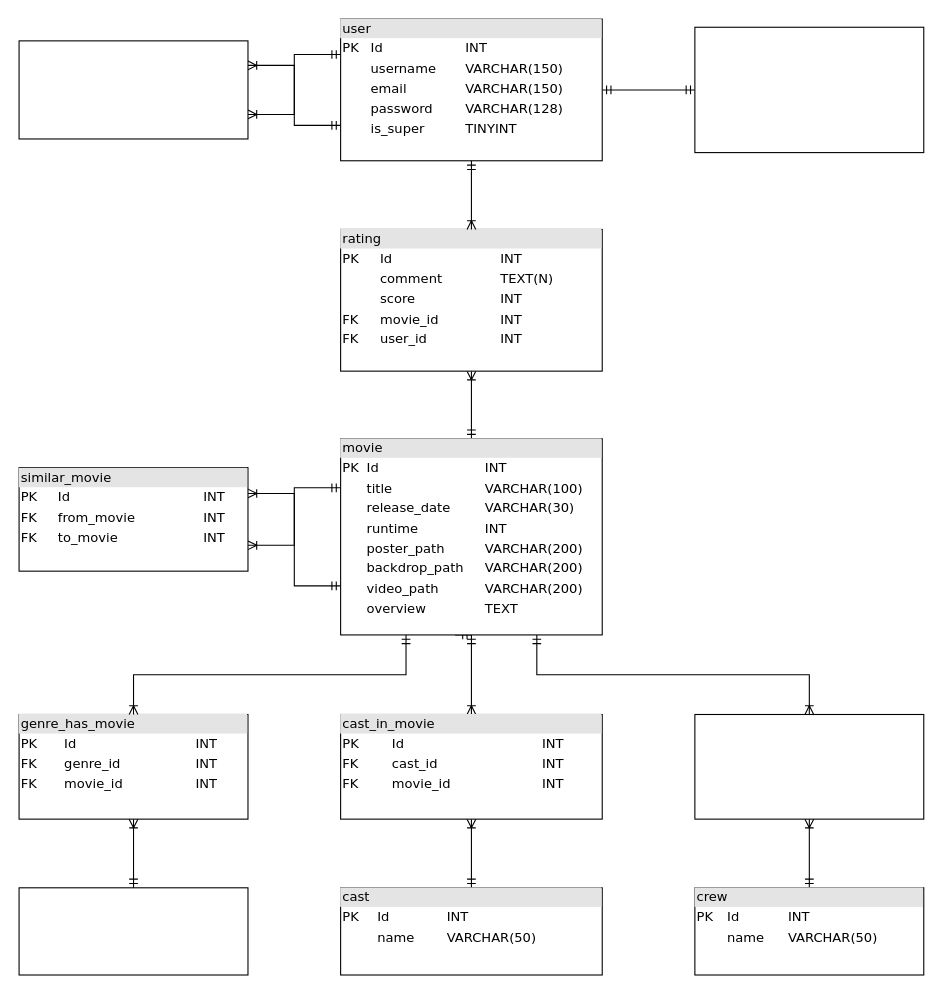
Some shapes in this 943 by 994 pixel diagram are drawn without their labels. The shapes that lost their labels are listed below. From the top down, each one's centre as x and y in pixels, then its label:
At [133,89]: "follow_user PK Id INT FK from_user INT FK to_user INT".
At [809,89]: "profile PK Id INT nickname VARCHAR(50) introduction TEXT FK user_id INT".
At [809,766]: "crew_in_movie PK Id INT FK crew_id INT FK movie_id INT".
At [133,931]: "genre PK Id INT type VARCHAR(20)".
